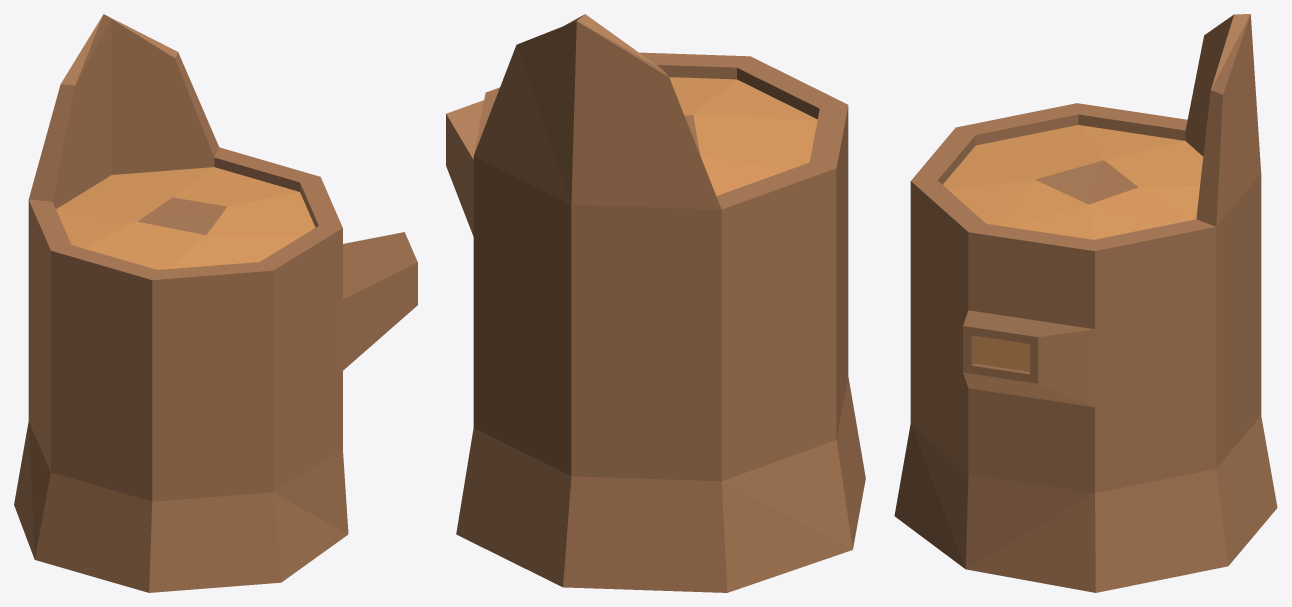
The model's file is Stump.fbx.
3 views of the same model, side by side, from view 1: azimuth 30°, elevation 25°; view 2: azimuth 150°, elevation 25°; view 3: azimuth 270°, elevation 25° (orthographic). The views are drawn at different scales.
Visible parts, largest first — view 1: Stump1; view 2: Stump1; view 3: Stump1.
Boxes of the visible parts, <box> form: Stump1: <box>14,14,417,592</box>; Stump1: <box>446,14,865,592</box>; Stump1: <box>894,14,1277,592</box>.
Bounding box in the file's own units: 1.06 × 1.3 × 0.9153.
